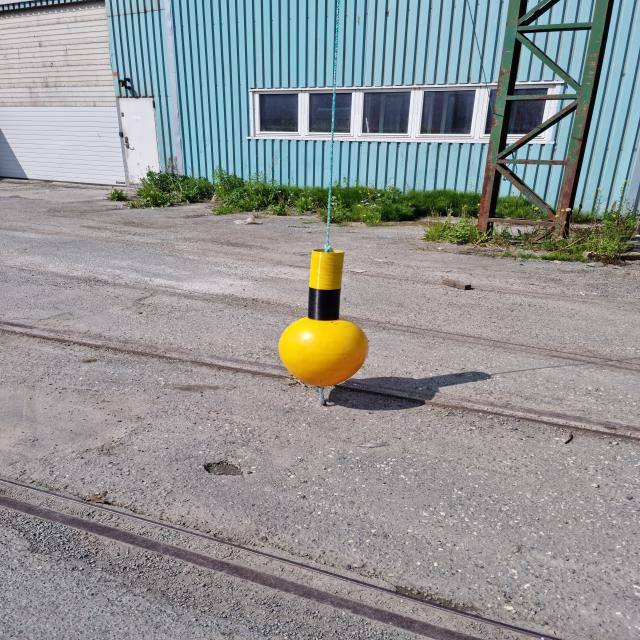west: (276, 251, 367, 386)
